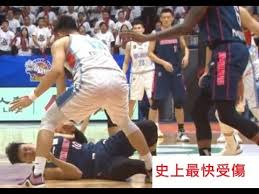10+: (1, 1, 259, 194)
down: (6, 121, 156, 180)
